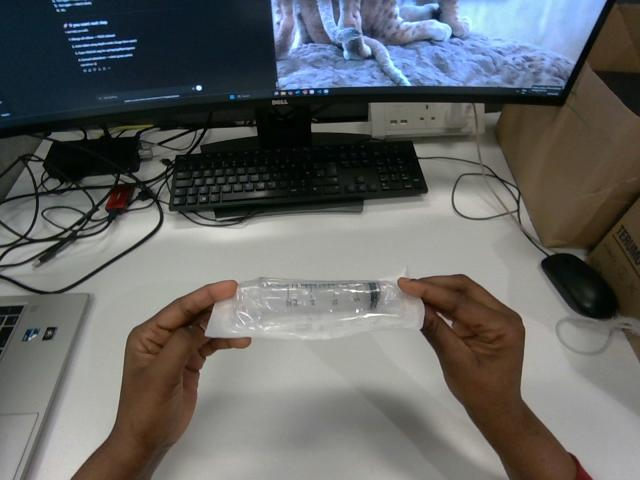syringe: (205, 278, 423, 339)
